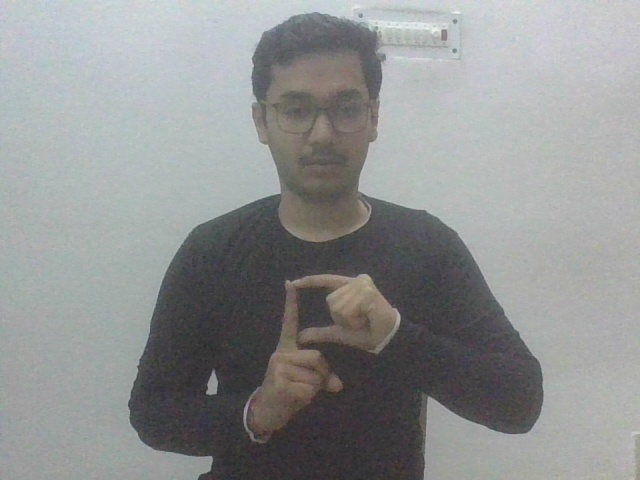D: (253, 268, 393, 436)
